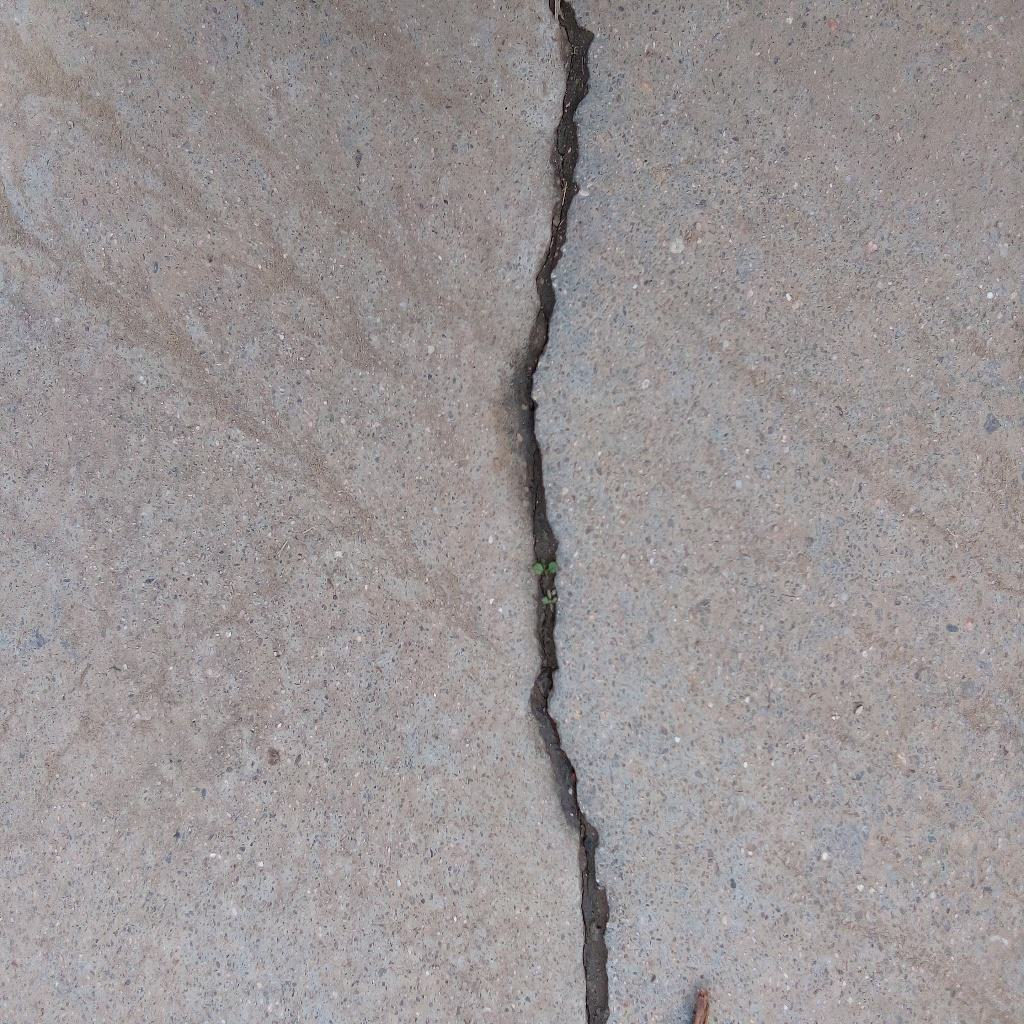Crack: (513, 1, 612, 1024)
